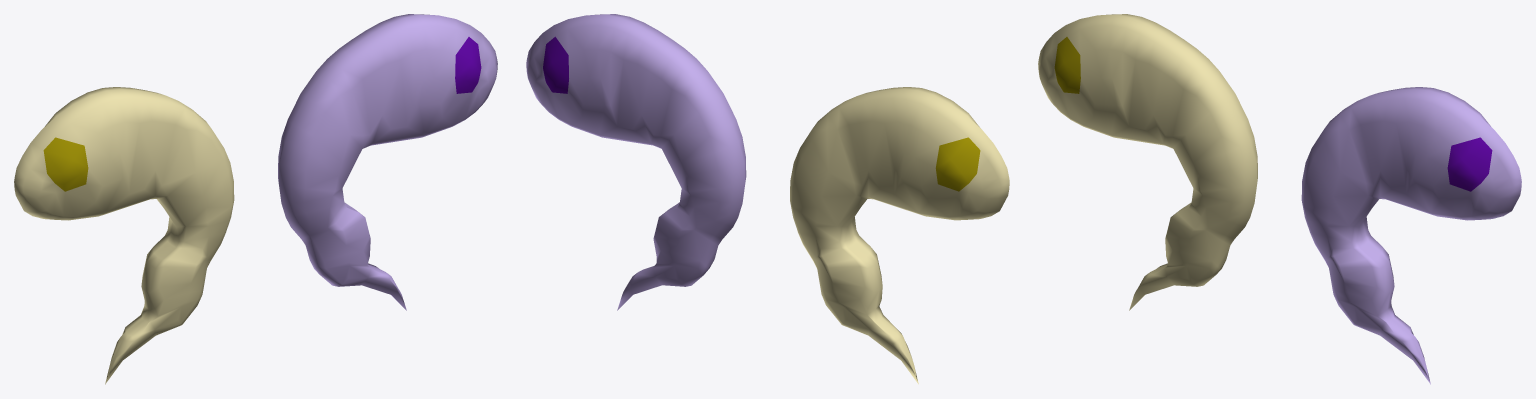
File: Std_Gemini_Orb.fbx
3 views of the same model, side by side, from view 1: azimuth 30°, elevation 25°; view 2: azimuth 150°, elevation 25°; view 3: azimuth 330°, elevation 25° (orthographic).
Visible parts, largest first — view 1: Right_Gemini_Orb_Body, Left_Gemini_Orb_Body; view 2: Right_Gemini_Orb_Body, Left_Gemini_Orb_Body; view 3: Left_Gemini_Orb_Body, Right_Gemini_Orb_Body.
Boxes of the visible parts, x1,y1,x2,y2 form: Right_Gemini_Orb_Body: [278, 14, 497, 310]; Left_Gemini_Orb_Body: [14, 87, 234, 384]; Right_Gemini_Orb_Body: [526, 14, 746, 310]; Left_Gemini_Orb_Body: [790, 87, 1009, 384]; Left_Gemini_Orb_Body: [1038, 14, 1257, 310]; Right_Gemini_Orb_Body: [1301, 87, 1521, 384].
Size of the model in its own units: 2.64 by 1.53 by 0.3174.
